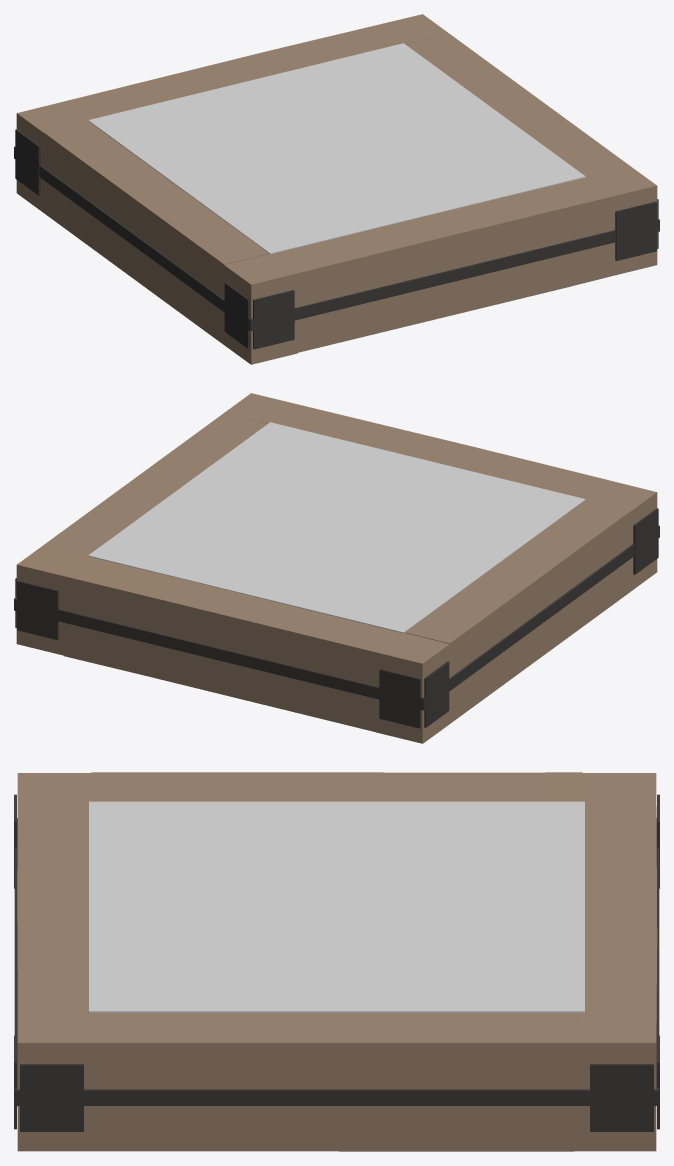
File: Kit_RealTower_R0_Fractured.fbx
3 views of the same model, one above another, from view 1: azimuth 30°, elevation 25°; view 2: azimuth 150°, elevation 25°; view 3: azimuth 270°, elevation 25° (orthographic). The views are drawn at different scales.
Parts seen in each view (by area): view 1: Kit_RealTower_R0_frag_14, Kit_RealTower_R0_frag_11, Kit_RealTower_R0_frag_10, Kit_RealTower_R0_frag_06, Kit_RealTower_R0_frag_12, Kit_RealTower_R0_frag_13, Kit_RealTower_R0_frag_15, Kit_RealTower_R0_frag_09, Kit_RealTower_R0_frag_05, Kit_RealTower_R0_frag_01, Kit_RealTower_R0_frag_02, Kit_RealTower_R0_frag_16 (+2 smaller); view 2: Kit_RealTower_R0_frag_11, Kit_RealTower_R0_frag_10, Kit_RealTower_R0_frag_14, Kit_RealTower_R0_frag_15, Kit_RealTower_R0_frag_08, Kit_RealTower_R0_frag_12, Kit_RealTower_R0_frag_16, Kit_RealTower_R0_frag_09, Kit_RealTower_R0_frag_07, Kit_RealTower_R0_frag_01, Kit_RealTower_R0_frag_13, Kit_RealTower_R0_frag_02 (+1 smaller); view 3: Kit_RealTower_R0_frag_11, Kit_RealTower_R0_frag_12, Kit_RealTower_R0_frag_14, Kit_RealTower_R0_frag_10, Kit_RealTower_R0_frag_03, Kit_RealTower_R0_frag_04, Kit_RealTower_R0_frag_08, Kit_RealTower_R0_frag_06, Kit_RealTower_R0_frag_09, Kit_RealTower_R0_frag_13, Kit_RealTower_R0_frag_15, Kit_RealTower_R0_frag_16.
Boxes of the visible parts, bbox=[...] form: Kit_RealTower_R0_frag_14: bbox=[178, 147, 525, 297]; Kit_RealTower_R0_frag_11: bbox=[306, 85, 629, 214]; Kit_RealTower_R0_frag_10: bbox=[43, 81, 337, 231]; Kit_RealTower_R0_frag_06: bbox=[456, 166, 659, 314]; Kit_RealTower_R0_frag_12: bbox=[248, 34, 538, 123]; Kit_RealTower_R0_frag_13: bbox=[224, 231, 388, 349]; Kit_RealTower_R0_frag_15: bbox=[14, 79, 178, 249]; Kit_RealTower_R0_frag_09: bbox=[132, 186, 269, 298]; Kit_RealTower_R0_frag_05: bbox=[298, 281, 456, 352]; Kit_RealTower_R0_frag_01: bbox=[170, 261, 297, 364]; Kit_RealTower_R0_frag_02: bbox=[91, 203, 171, 306]; Kit_RealTower_R0_frag_16: bbox=[154, 46, 314, 97]; Kit_RealTower_R0_frag_11: bbox=[133, 413, 425, 550]; Kit_RealTower_R0_frag_10: bbox=[244, 528, 538, 677]; Kit_RealTower_R0_frag_14: bbox=[334, 425, 585, 566]; Kit_RealTower_R0_frag_15: bbox=[285, 611, 501, 743]; Kit_RealTower_R0_frag_08: bbox=[14, 545, 217, 693]; Kit_RealTower_R0_frag_12: bbox=[14, 480, 301, 655]; Kit_RealTower_R0_frag_16: bbox=[148, 577, 311, 676]; Kit_RealTower_R0_frag_09: bbox=[494, 500, 630, 612]; Kit_RealTower_R0_frag_07: bbox=[217, 660, 375, 732]; Kit_RealTower_R0_frag_01: bbox=[578, 508, 659, 629]; Kit_RealTower_R0_frag_13: bbox=[494, 458, 659, 545]; Kit_RealTower_R0_frag_02: bbox=[500, 584, 579, 686]; Kit_RealTower_R0_frag_11: bbox=[89, 907, 426, 1089]; Kit_RealTower_R0_frag_12: bbox=[340, 907, 658, 1151]; Kit_RealTower_R0_frag_14: bbox=[14, 801, 340, 1000]; Kit_RealTower_R0_frag_10: bbox=[340, 772, 584, 907]; Kit_RealTower_R0_frag_03: bbox=[15, 1064, 233, 1151]; Kit_RealTower_R0_frag_04: bbox=[233, 1089, 447, 1151]; Kit_RealTower_R0_frag_08: bbox=[582, 953, 659, 1129]; Kit_RealTower_R0_frag_06: bbox=[14, 954, 91, 1129]; Kit_RealTower_R0_frag_09: bbox=[91, 772, 340, 801]; Kit_RealTower_R0_frag_13: bbox=[14, 773, 91, 910]; Kit_RealTower_R0_frag_15: bbox=[582, 773, 659, 910]; Kit_RealTower_R0_frag_16: bbox=[585, 864, 659, 1000].
Size of what is drawn, in the model's own units: 2.63 by 0.497 by 2.63.
